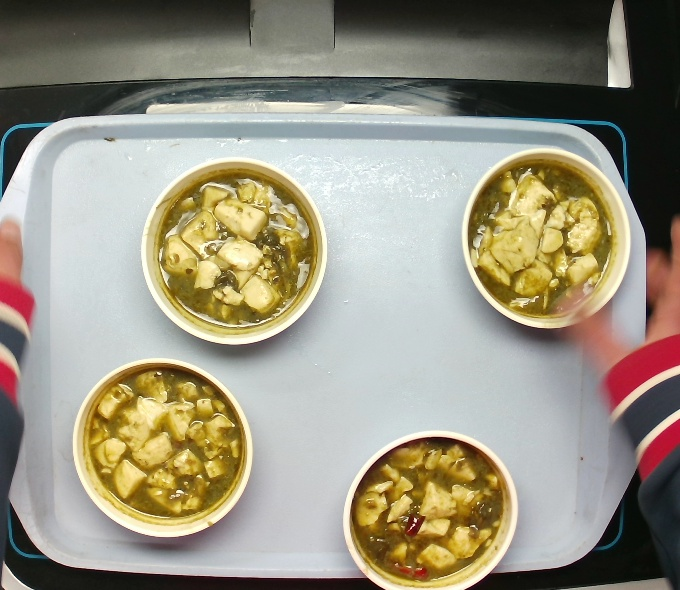wcq-SuanCaiDouFu: (152, 169, 319, 332), (82, 365, 246, 524), (466, 157, 617, 321), (349, 434, 507, 589)
